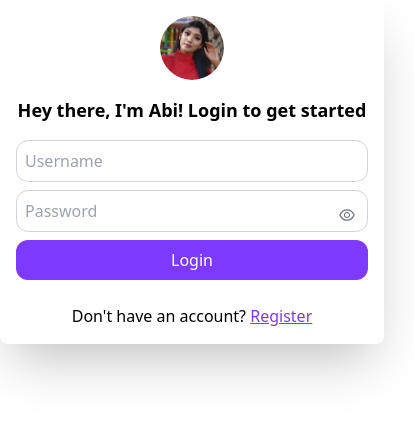
Scenario: AuthForm Component › toggles between login and register mode
What coordinates should you click on to do the following:
click the button "Register"
I would click on:
 (281, 316)
Its box is [250,304,312,328].
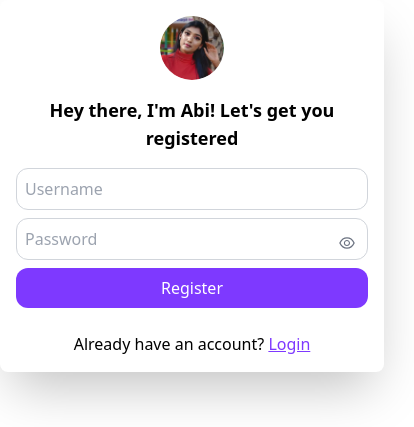
Now the heading "Hey there, I'm Abi! Let's get you registered" is shown, box [50,98,334,150]
Now the button "Register" is shown, box [16,268,368,308]
What coordinates should you click on to do the following:
click the button "Login"
I would click on:
 (289, 344)
Its box is [268,332,310,356].
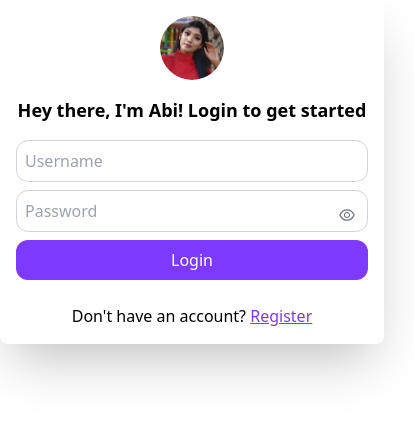
Now the heading "Hey there, I'm Abi! Login to get started" is shown, box [16,96,368,124]
